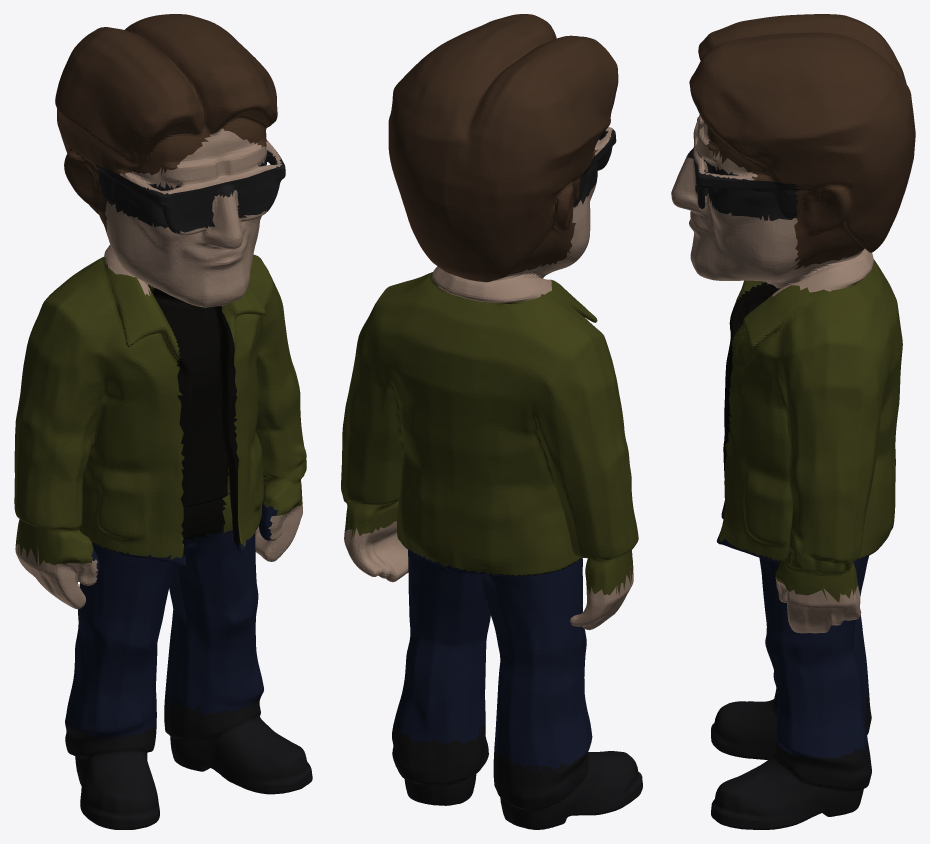
The model's file is jacopo-ps2-paint.glb.
The picture shows the model from 3 angles, left to right: view 1: azimuth 30°, elevation 25°; view 2: azimuth 150°, elevation 25°; view 3: azimuth 270°, elevation 25°; orthographic projection.
Visible parts, largest first — view 1: world.001; view 2: world.001; view 3: world.001.
Boxes of the visible parts, left/top/right/bottom form: world.001: left=14, top=14, right=312, bottom=829; world.001: left=341, top=14, right=642, bottom=829; world.001: left=671, top=14, right=915, bottom=829.
Bounding box in the file's own units: 0.7774 × 1.99 × 0.5888.
